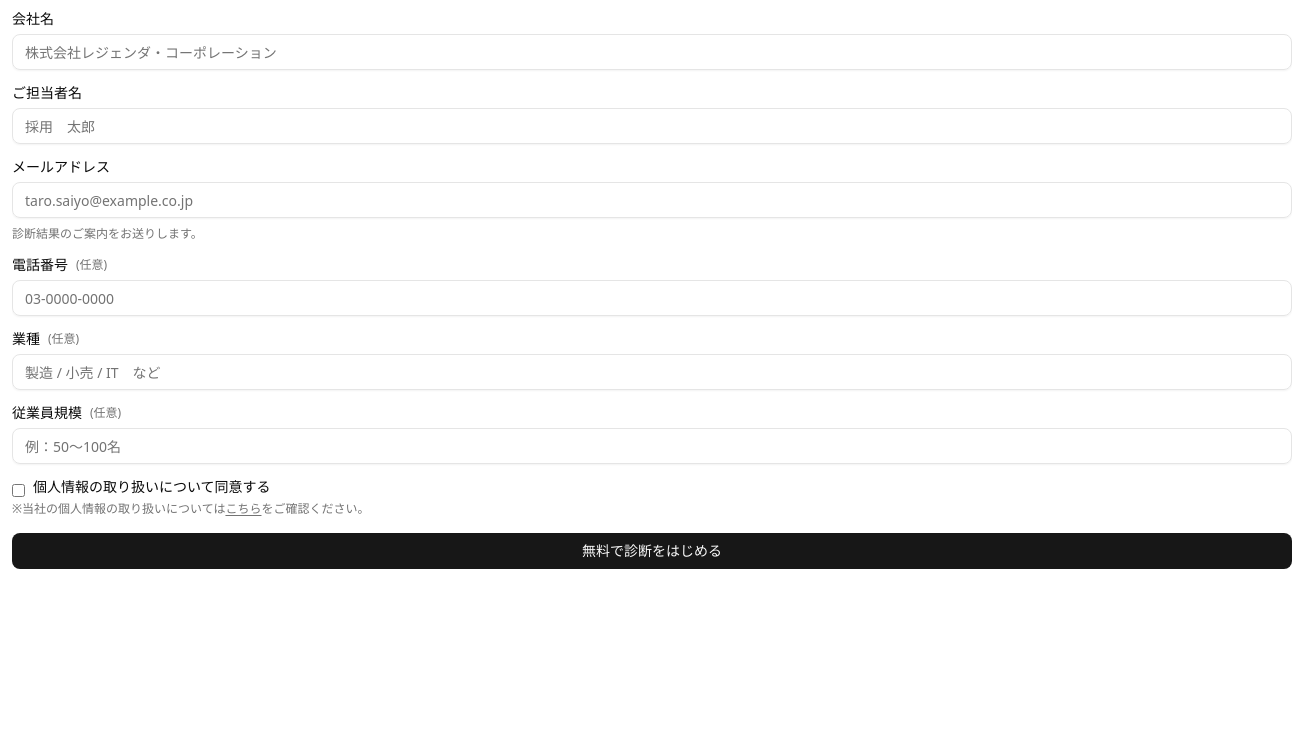
Test case: LeadOnboardingForm › shows a validation error for an invalid email format
The width and height of the screenshot is (1304, 732).
Type "株式会社サンプル" into the field labelled "会社名" at (652, 52), box [12, 34, 1292, 70]
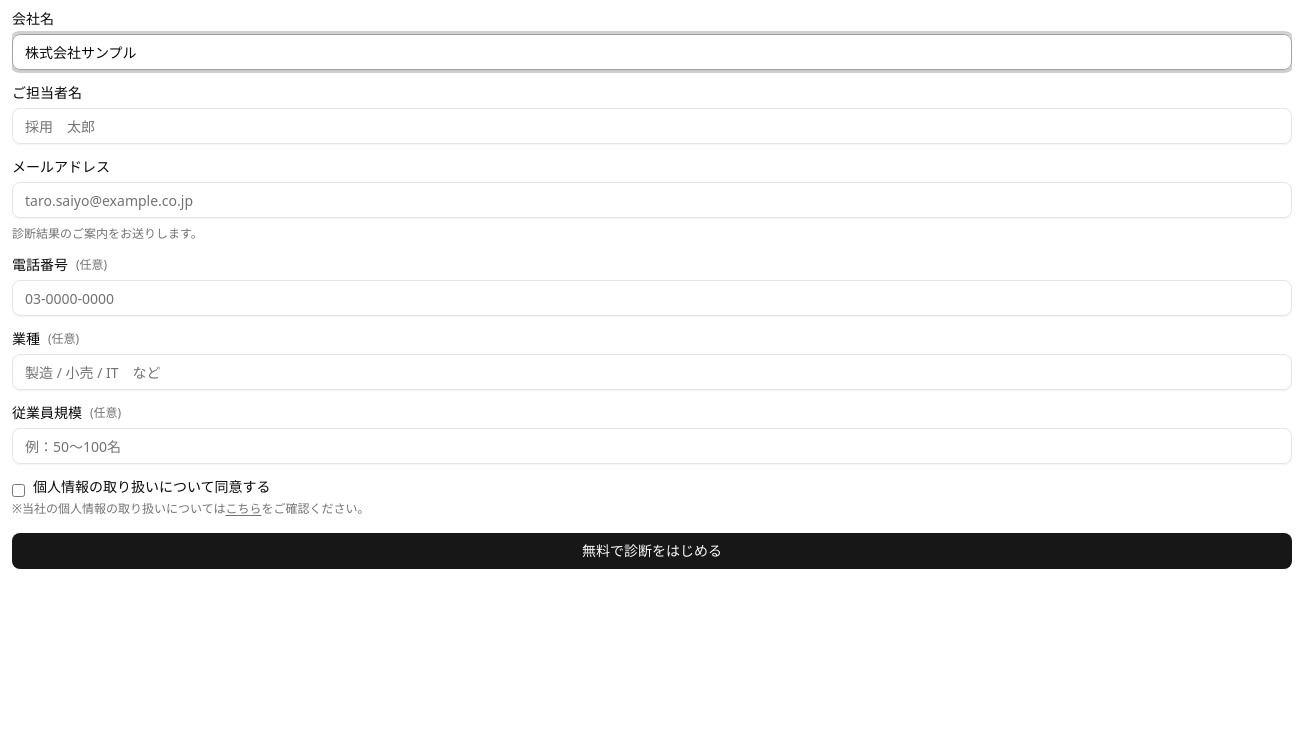
Type "山田太郎" into the field labelled "ご担当者名" at (652, 126), box [12, 108, 1292, 144]
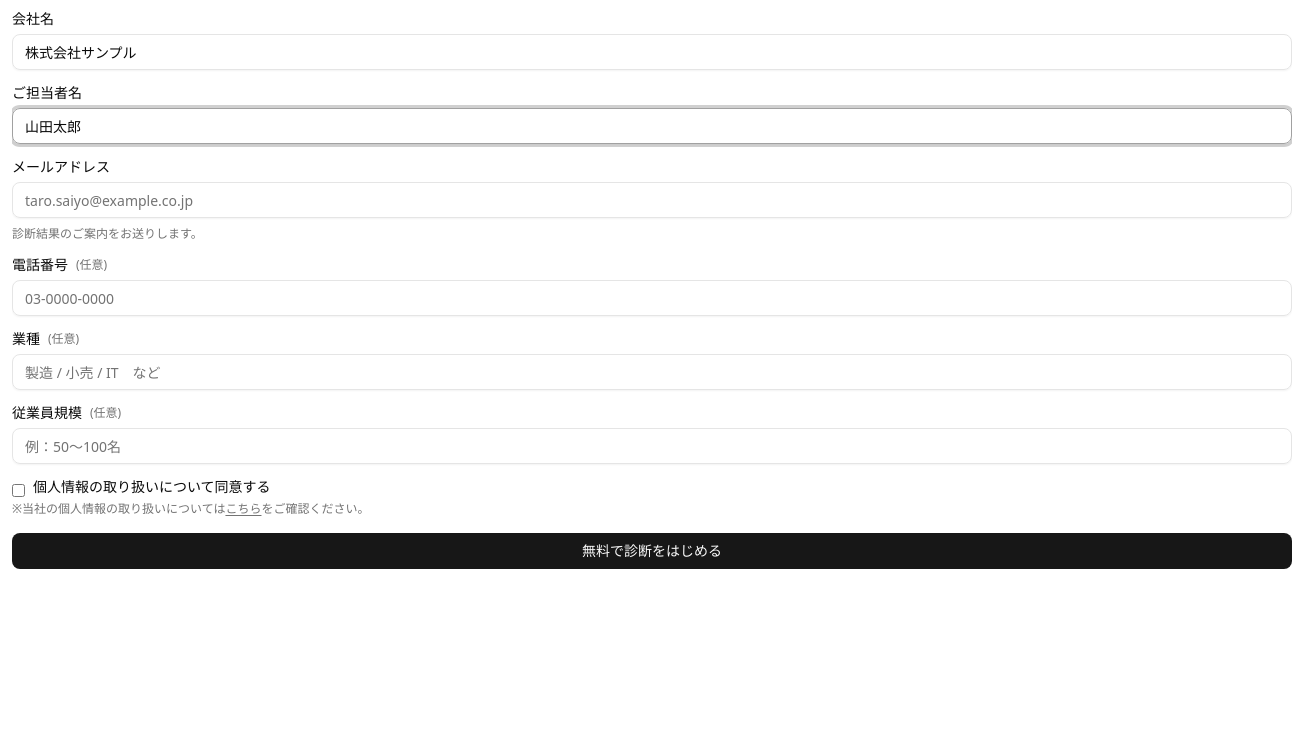
Type "not-an-email" into the field labelled "メールアドレス" at (652, 200), box [12, 182, 1292, 218]
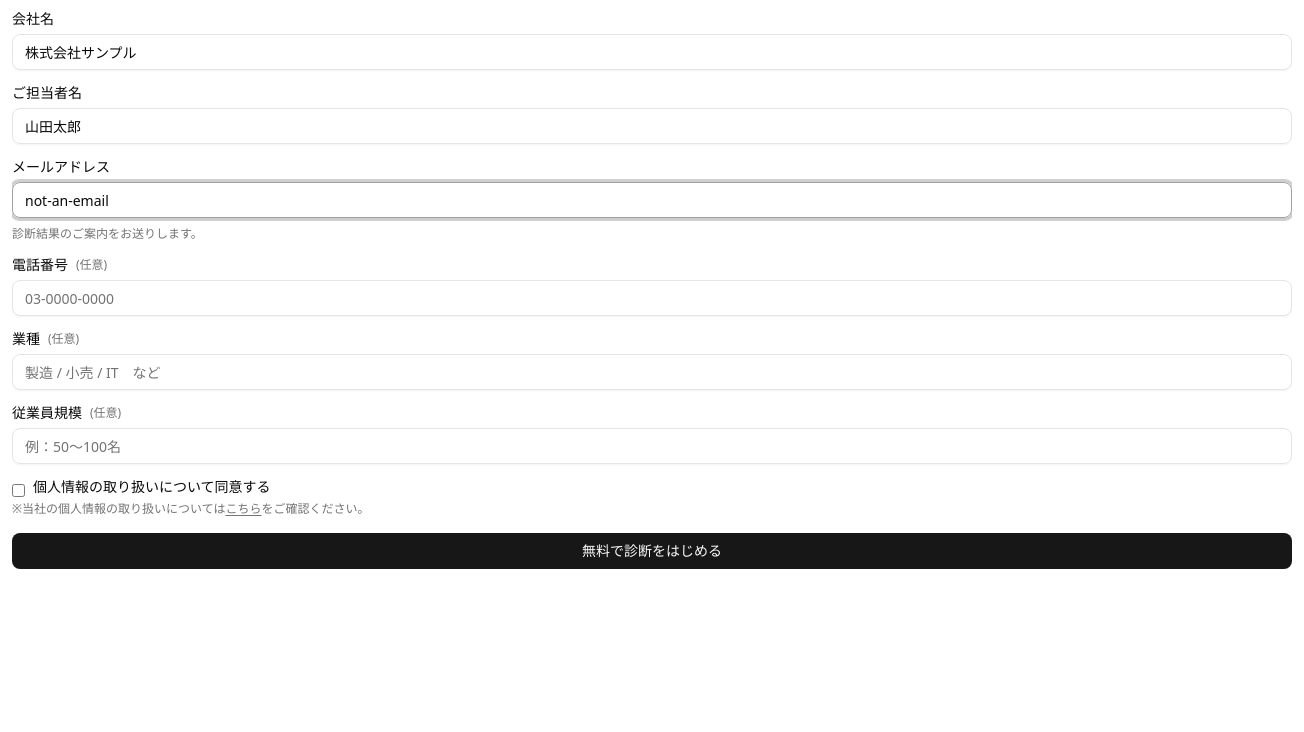
Click the checkbox labelled "個人情報の取り扱いについて同意する" at (18, 490), box [12, 484, 25, 497]
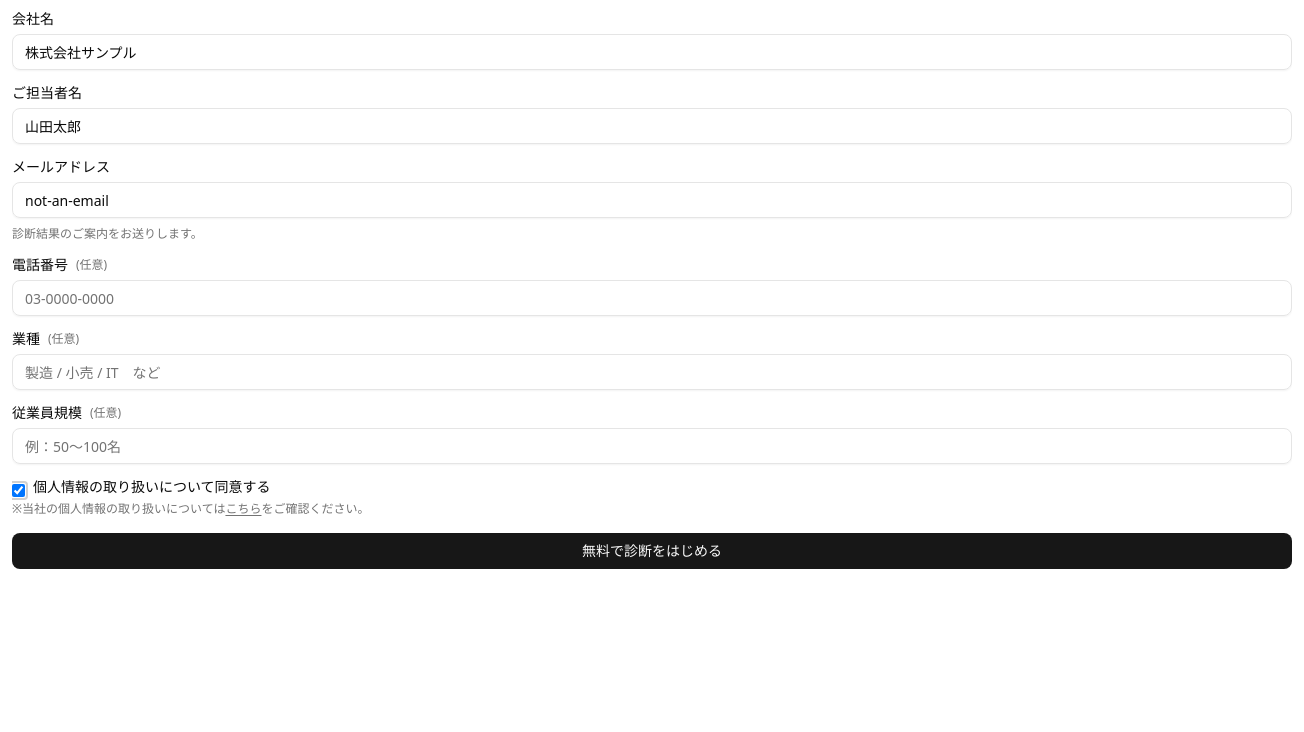
Click the button "無料で診断をはじめる" at (652, 551), box [12, 533, 1292, 569]
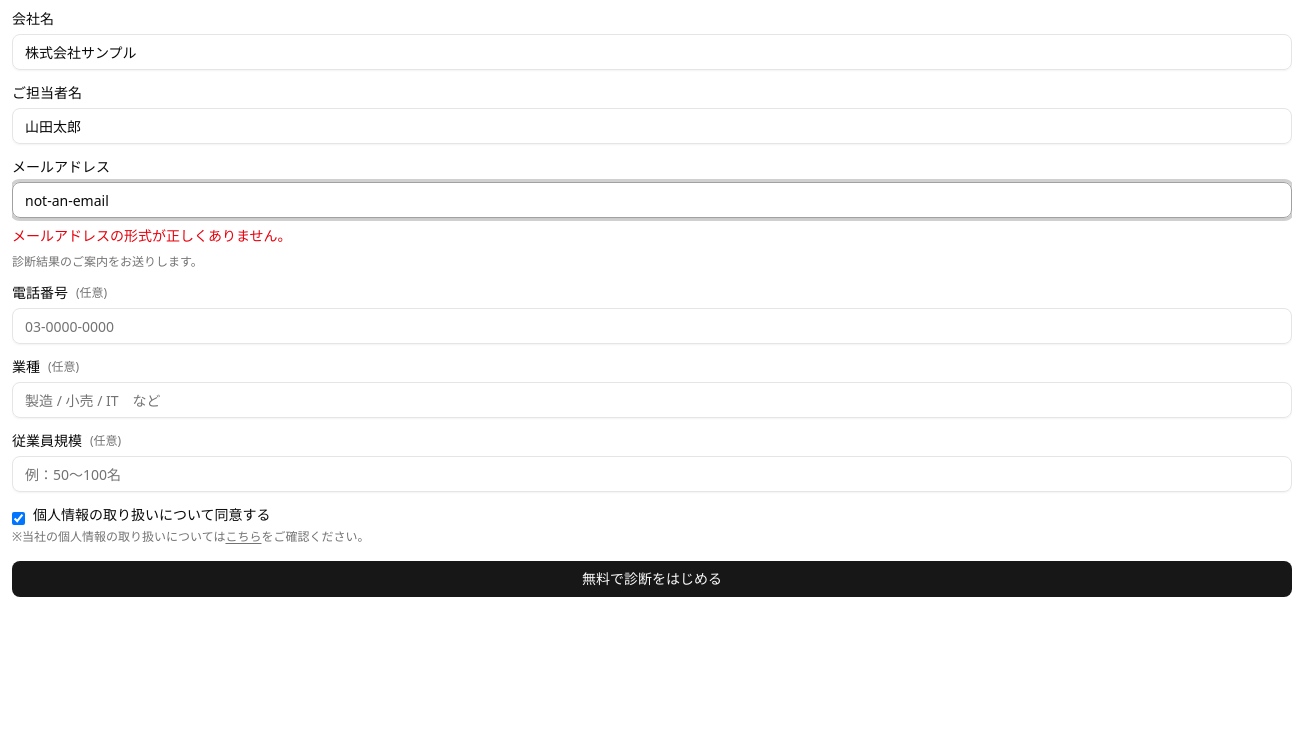
Check: the text "メールアドレスの形式が正しくありません。" is shown, box [12, 226, 292, 245]
